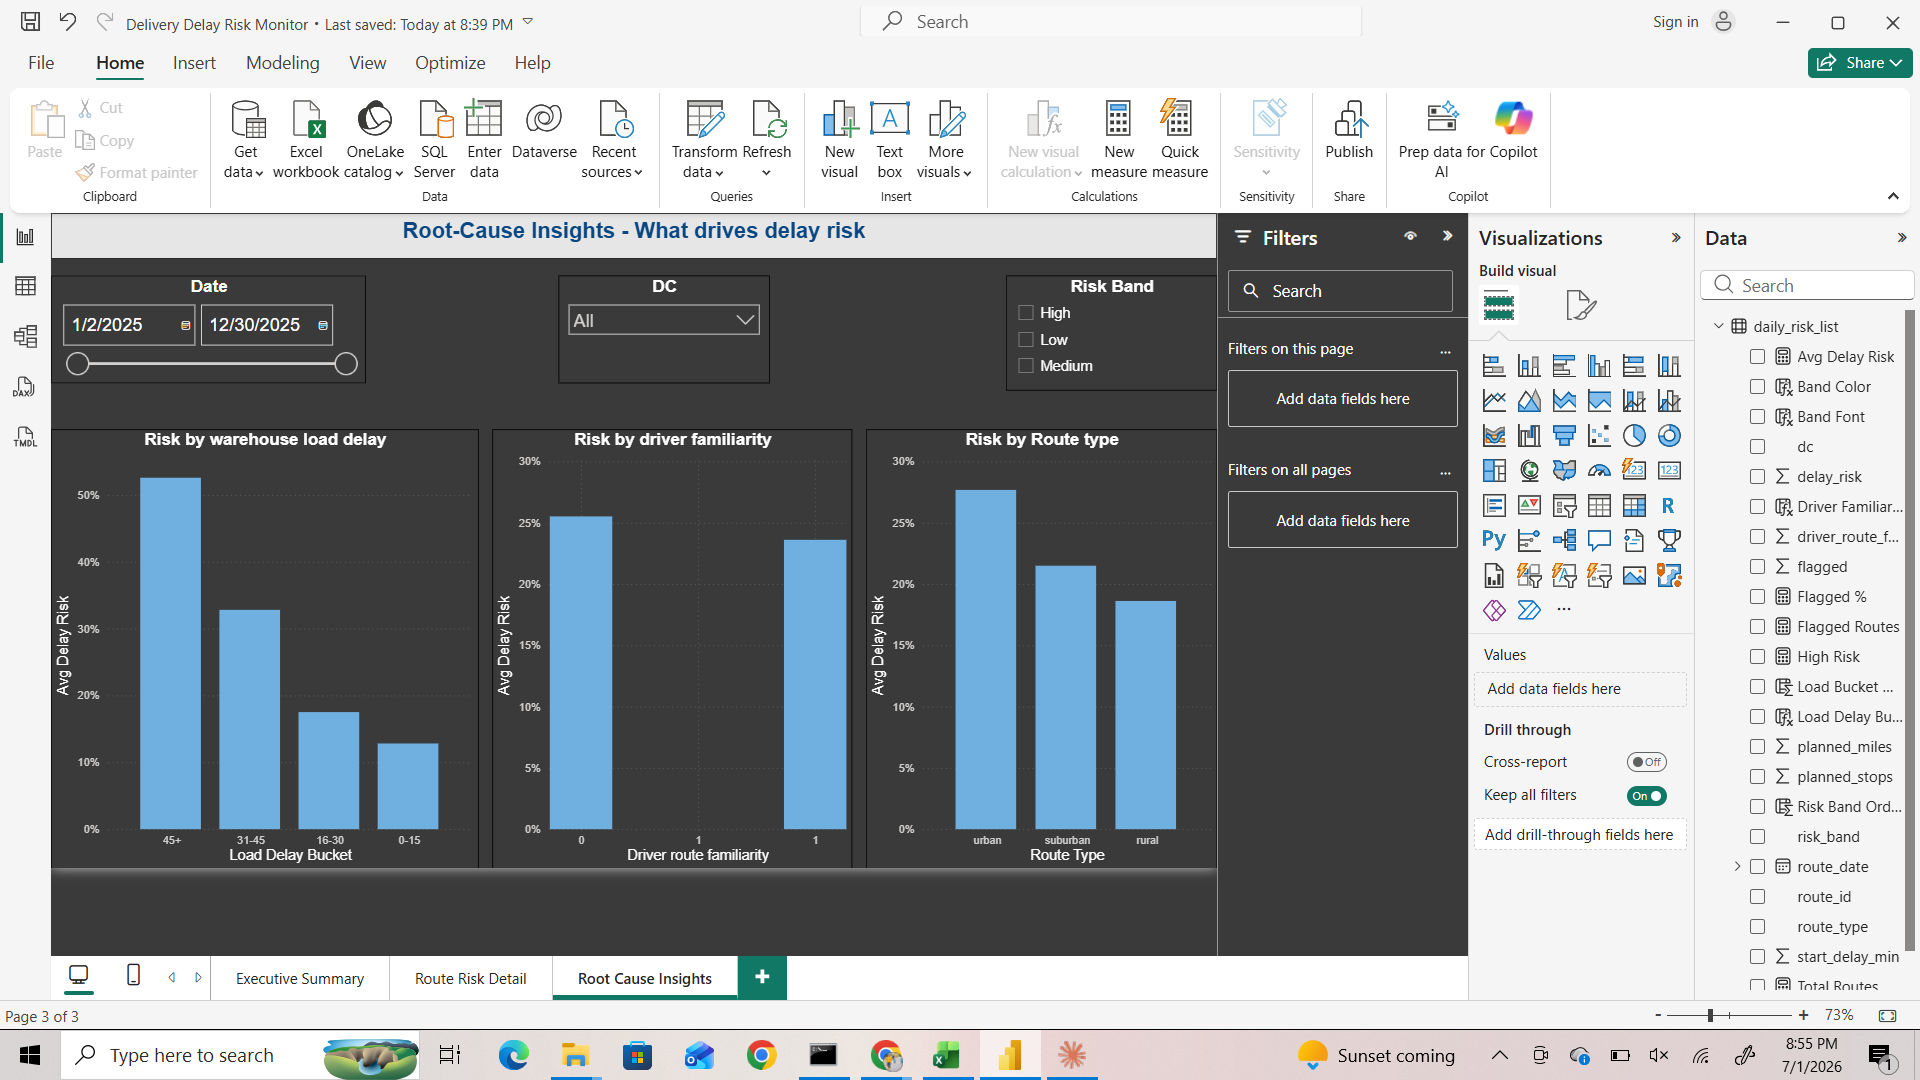

The dashboard page shown, as its layout file describes it:
{"tool":"powerbi","page":{"name":"Root Cause Insights","canvas":[1280,720],"ordinal":2},"visuals":[{"type":"textbox","box":[0,0,1280.3,50.8],"z":0},{"type":"slicer","title":"Date","fields":{"Values":["daily_risk_list.route_date"]},"box":[0,68.6,345.8,118],"z":1},{"type":"slicer","title":"DC","fields":{"Values":["daily_risk_list.dc"]},"box":[557.1,68.6,231.9,118],"z":2},{"type":"slicer","title":"Risk Band","fields":{"Values":["daily_risk_list.risk_band"]},"box":[1048.1,68.6,231.9,126.2],"z":3},{"type":"clusteredColumnChart","title":"Risk by warehouse load delay","fields":{"Category":["daily_risk_list.Load Delay Bucket"],"Y":["daily_risk_list.Avg Delay Risk"]},"box":[0,237.4,469.3,483],"z":4},{"type":"clusteredColumnChart","title":"Risk by driver familiarity","fields":{"Category":["daily_risk_list.driver_route_familiarity"],"Y":["daily_risk_list.Avg Delay Risk"]},"box":[484.4,237.4,395.2,483],"z":5},{"type":"clusteredColumnChart","title":"Risk by Route type","fields":{"Category":["daily_risk_list.route_type"],"Y":["daily_risk_list.Avg Delay Risk"]},"box":[894.7,237.4,385.6,483],"z":6}]}

Visuals, with their boxes on the page's 1280x720 design canvas (x1, y1, x2, y2). These are canvas units, not pixel positions in the 1920x1080 screenshot, which may show the page scaled, cropped or inside an application window:
textbox: rect(0, 0, 1280, 51)
"Date" slicer: rect(0, 69, 346, 187)
"DC" slicer: rect(557, 69, 789, 187)
"Risk Band" slicer: rect(1048, 69, 1280, 195)
"Risk by warehouse load delay" clusteredColumnChart: rect(0, 237, 469, 720)
"Risk by driver familiarity" clusteredColumnChart: rect(484, 237, 880, 720)
"Risk by Route type" clusteredColumnChart: rect(895, 237, 1280, 720)
